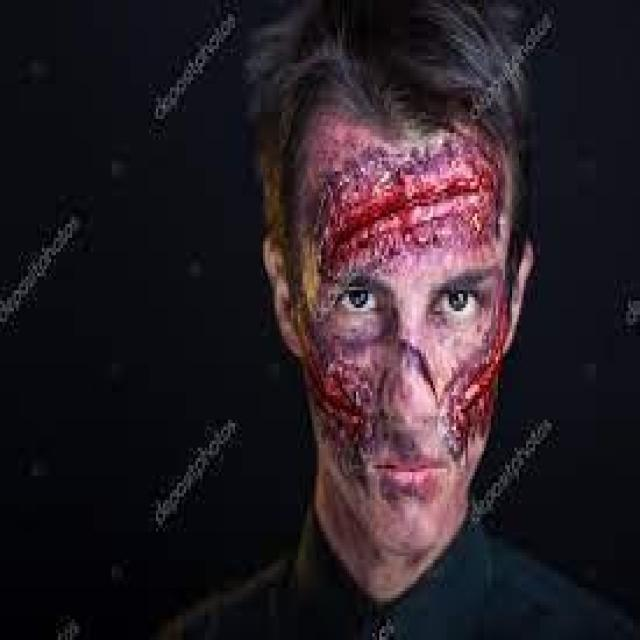flood: (314, 164, 506, 261), (306, 341, 378, 481), (442, 332, 493, 454)
